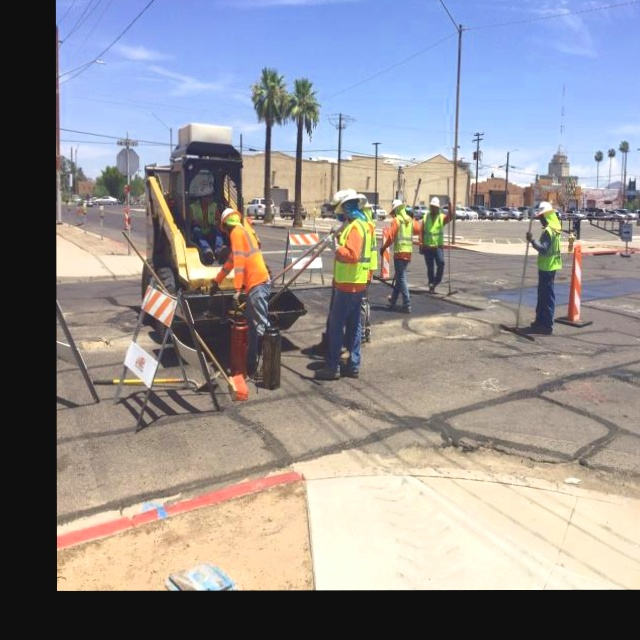Con_Casco: (335, 189, 366, 214), (536, 201, 555, 220), (389, 200, 406, 213), (430, 197, 441, 212)
Con_Chaleco: (336, 217, 369, 283), (231, 226, 268, 284), (537, 227, 563, 270), (390, 214, 417, 253), (422, 213, 446, 248)
